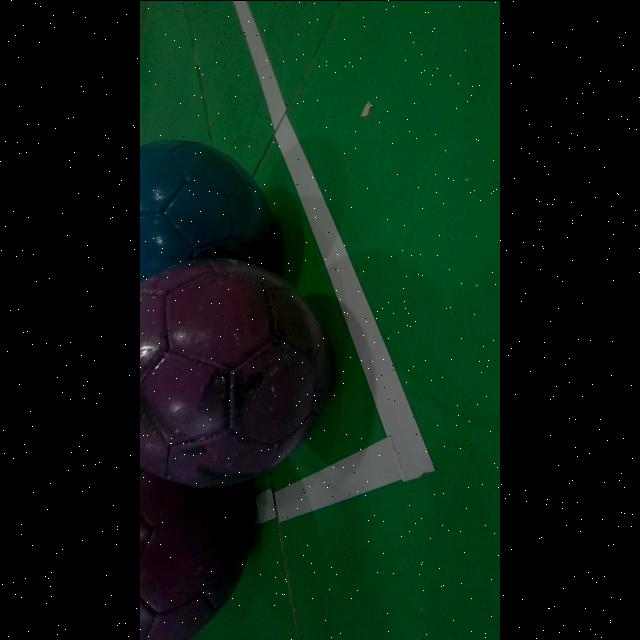B: (140, 139, 274, 278)
P: (140, 257, 330, 486), (140, 471, 252, 640)
